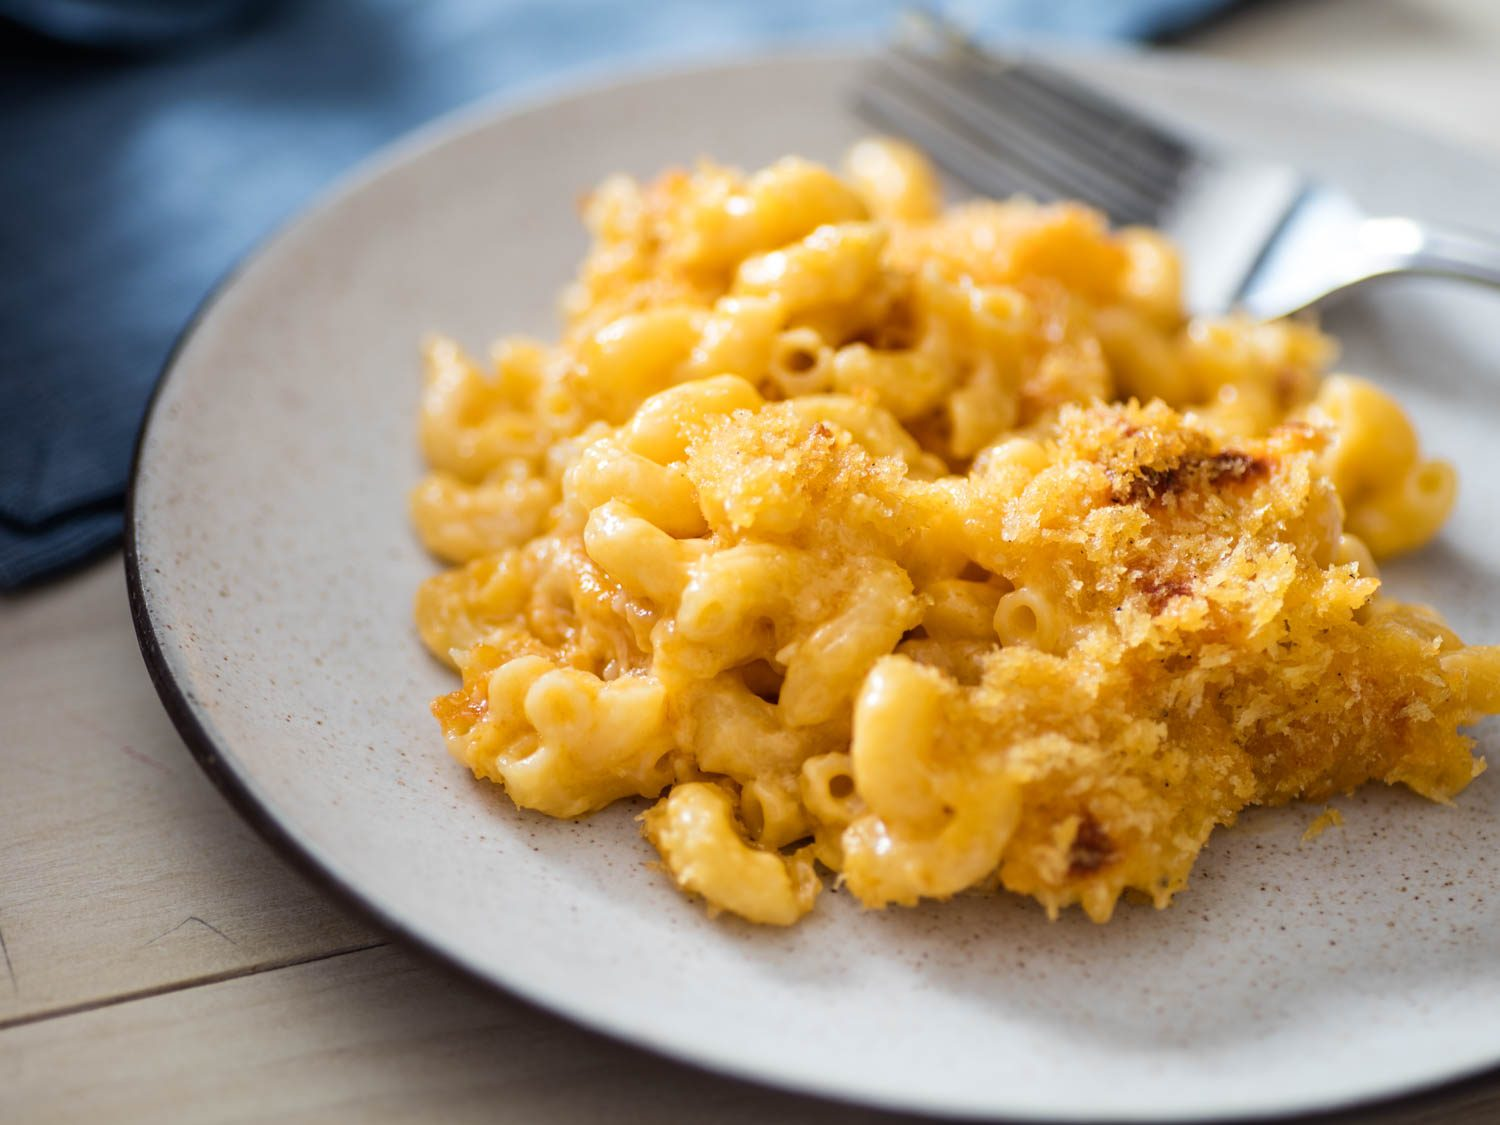macncheese: (503, 202, 1232, 970)
